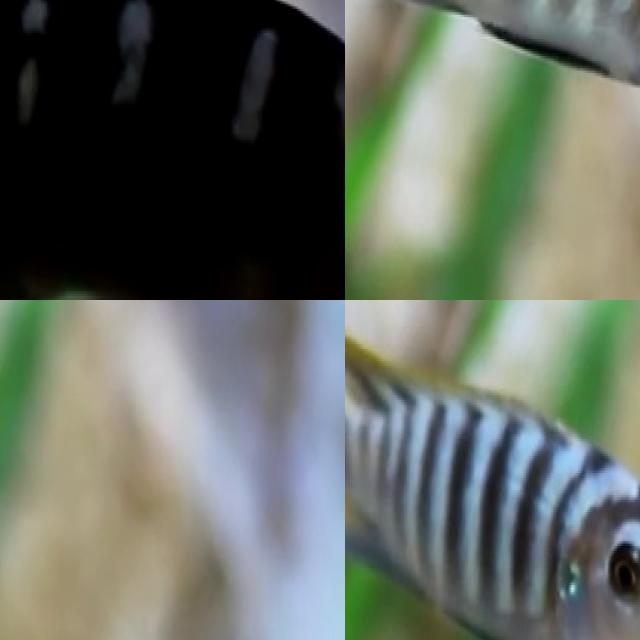fish: (0, 0, 345, 300), (345, 302, 640, 640), (345, 0, 640, 92)
